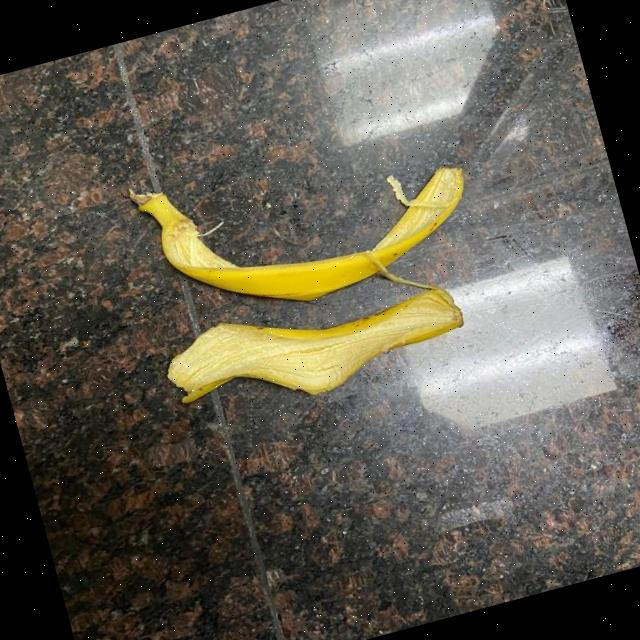banana-peel: (124, 102, 485, 340), (156, 259, 473, 432)
